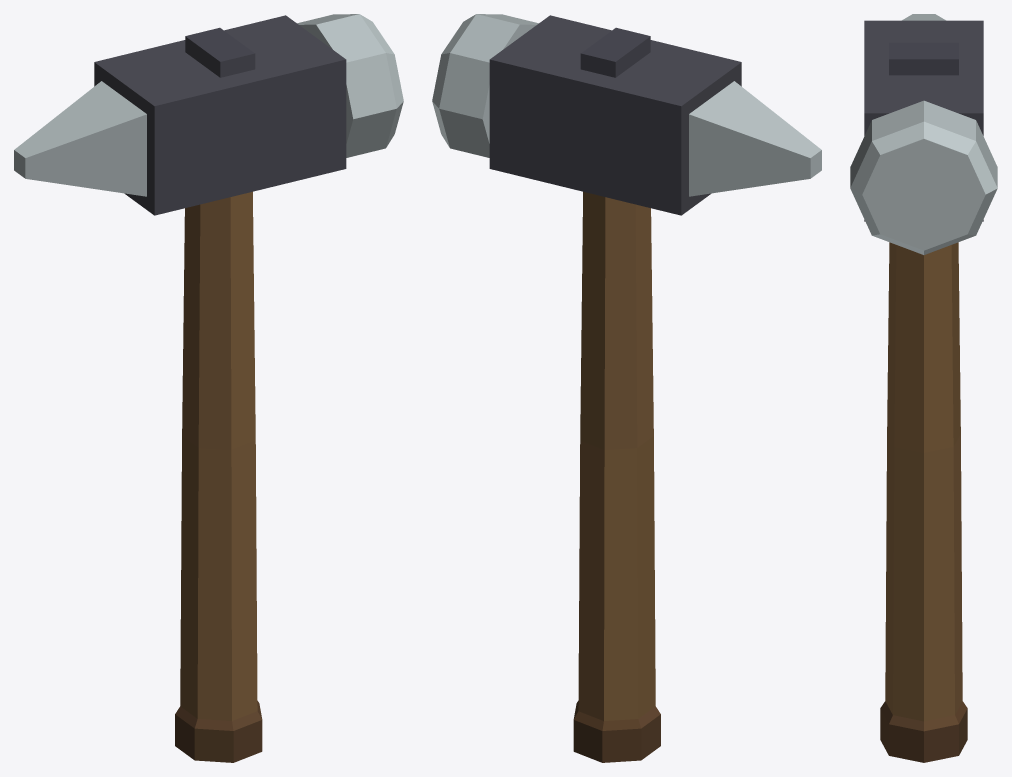
File: held_hammer.glb
3 renders of one model, left to right at view 1: azimuth 30°, elevation 25°; view 2: azimuth 150°, elevation 25°; view 3: azimuth 270°, elevation 25°, orthographic.
Parts seen in each view (by area): view 1: held_hammer; view 2: held_hammer; view 3: held_hammer.
Boxes of the visible parts, left/top/right/bottom form: held_hammer: left=14, top=14, right=403, bottom=762; held_hammer: left=432, top=14, right=821, bottom=762; held_hammer: left=850, top=14, right=997, bottom=762.
Size of the model in its own units: 0.405 by 0.7675 by 0.148.
